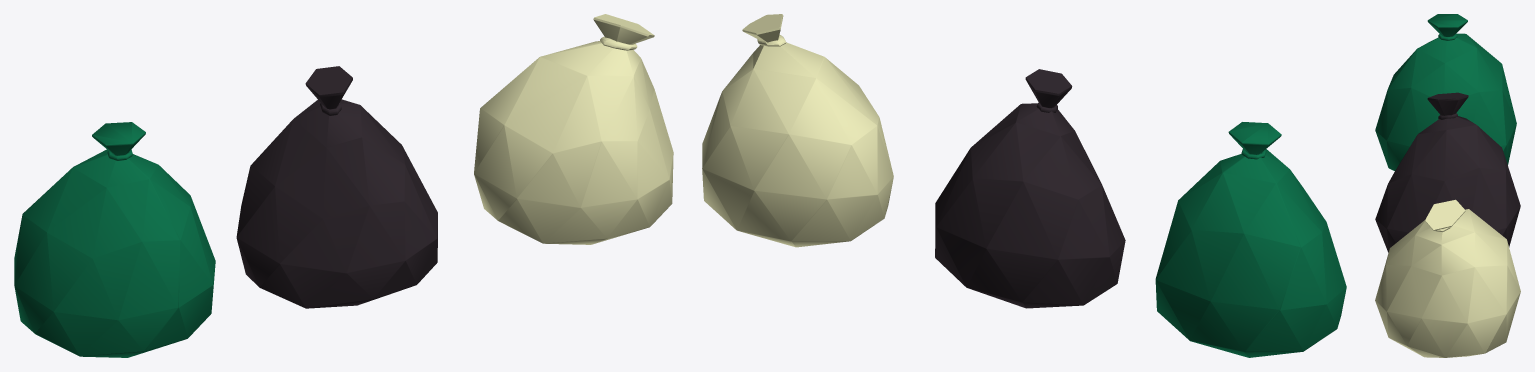
The model's file is BOLSAS DE BASURA.fbx.
3 views of the same model, side by side, from view 1: azimuth 30°, elevation 25°; view 2: azimuth 150°, elevation 25°; view 3: azimuth 270°, elevation 25° (orthographic). The views are drawn at different scales.
Parts seen in each view (by area): view 1: Icosphere.001, Icosphere.003, Icosphere.002; view 2: Icosphere.003, Icosphere.001, Icosphere.002; view 3: Icosphere.003, Icosphere.002, Icosphere.001.
Boxes of the visible parts, bbox=[...] form: Icosphere.001: bbox=[14, 122, 215, 357]; Icosphere.003: bbox=[474, 14, 673, 244]; Icosphere.002: bbox=[236, 66, 437, 308]; Icosphere.003: bbox=[702, 14, 893, 247]; Icosphere.001: bbox=[1155, 122, 1346, 357]; Icosphere.002: bbox=[935, 69, 1125, 308]; Icosphere.003: bbox=[1375, 199, 1520, 357]; Icosphere.002: bbox=[1375, 92, 1520, 252]; Icosphere.001: bbox=[1375, 14, 1516, 170].
Size of the model in its own units: 578 by 189 by 152.
